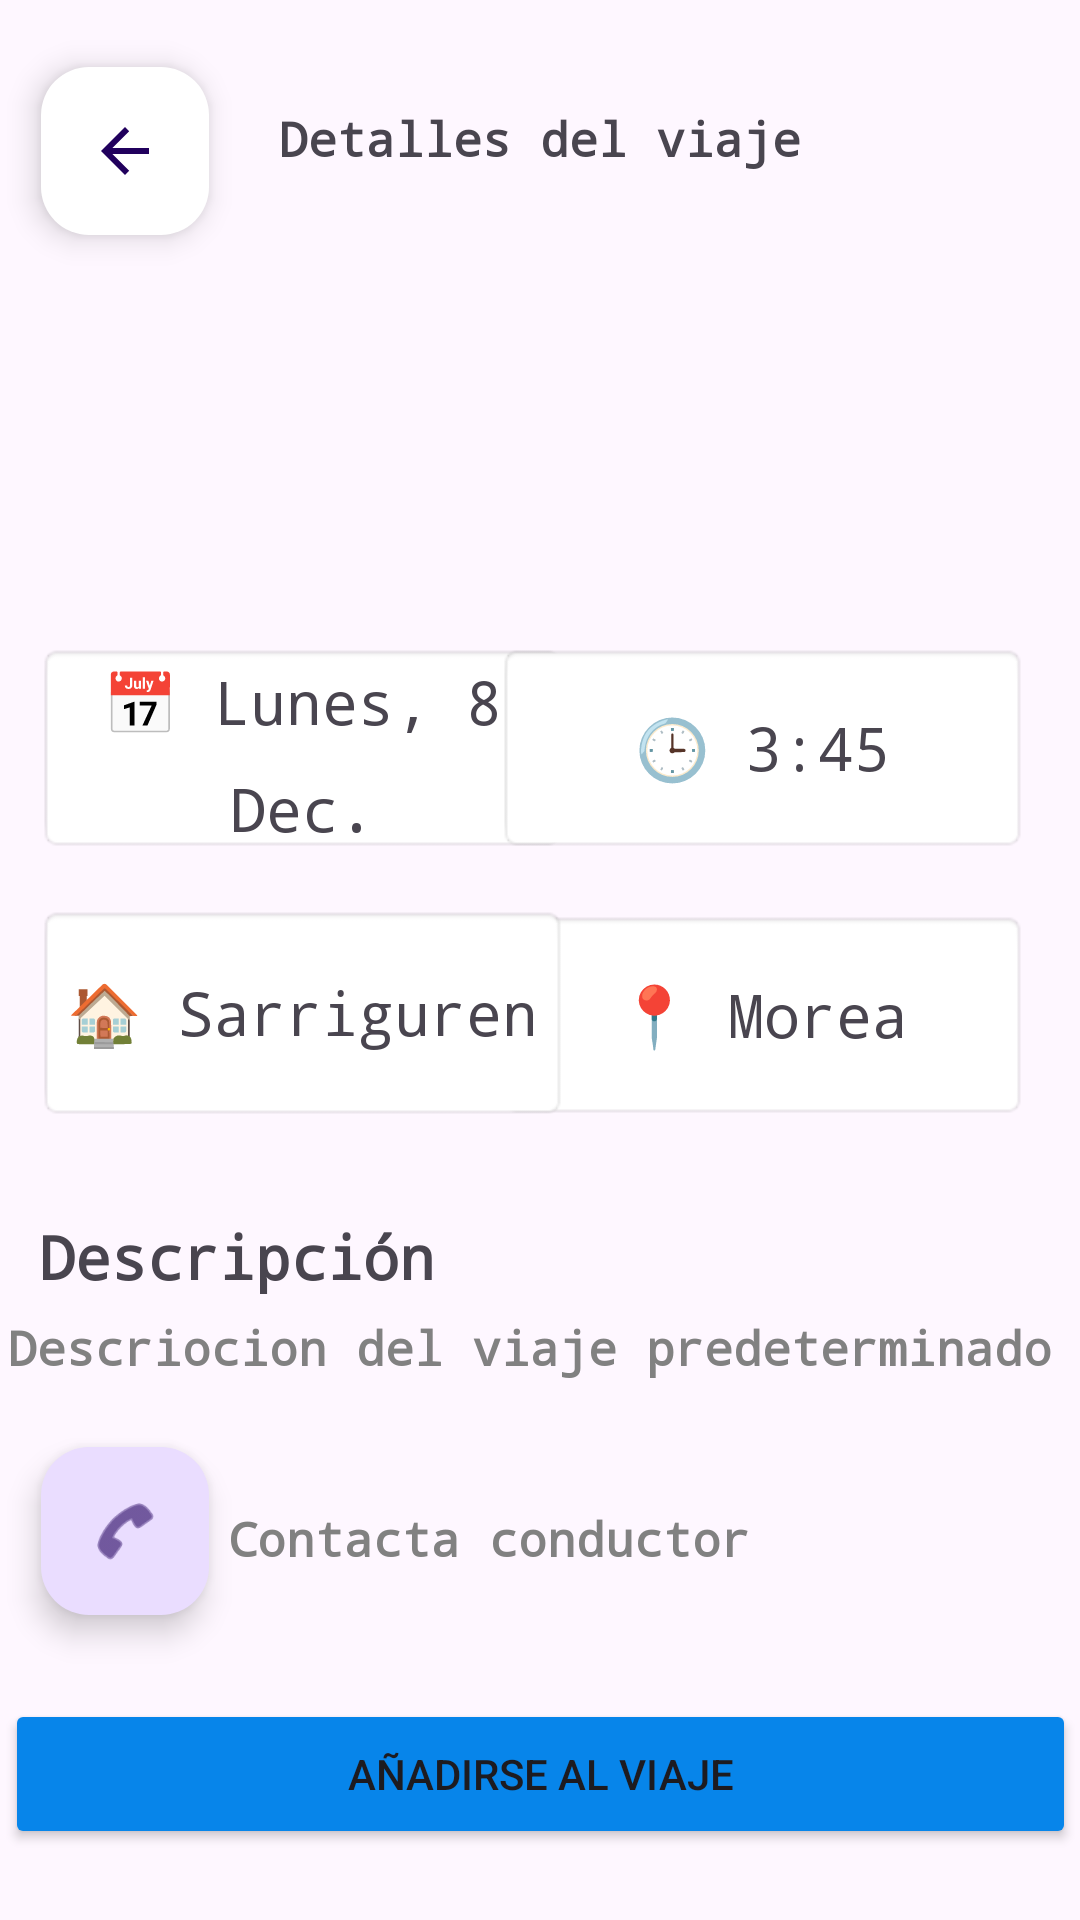

Locate icon controls on the screen. Image size 1080px×1920px, boxes as (x1, y1, x2, y2).
call: (41, 1447, 209, 1615)
